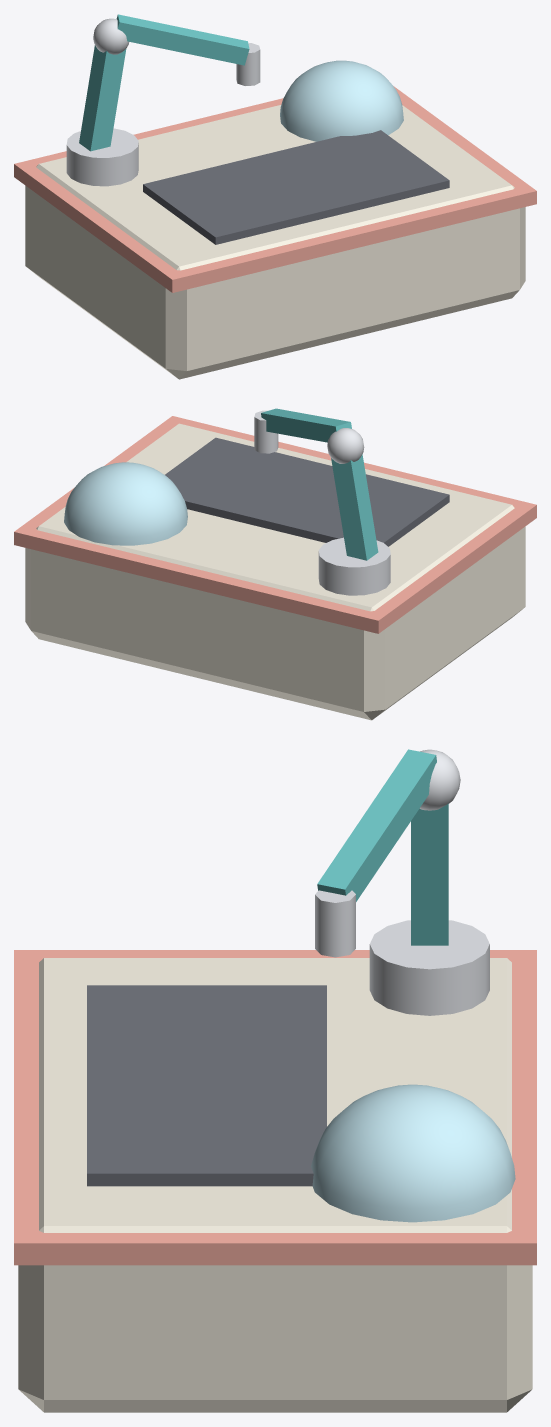
The model's file is ic_assembler.glb.
3 views of the same model, one above another, from view 1: azimuth 30°, elevation 25°; view 2: azimuth 150°, elevation 25°; view 3: azimuth 270°, elevation 25° (orthographic). The views are drawn at different scales.
Visible parts, largest first — view 1: ic_assembler; view 2: ic_assembler; view 3: ic_assembler.
Boxes of the visible parts, box(x1,y1,x2,y2) form: ic_assembler: box(14, 14, 536, 379); ic_assembler: box(14, 408, 536, 720); ic_assembler: box(14, 749, 536, 1412).
Bounding box in the file's own units: 4.05 × 2.81 × 3.05.
